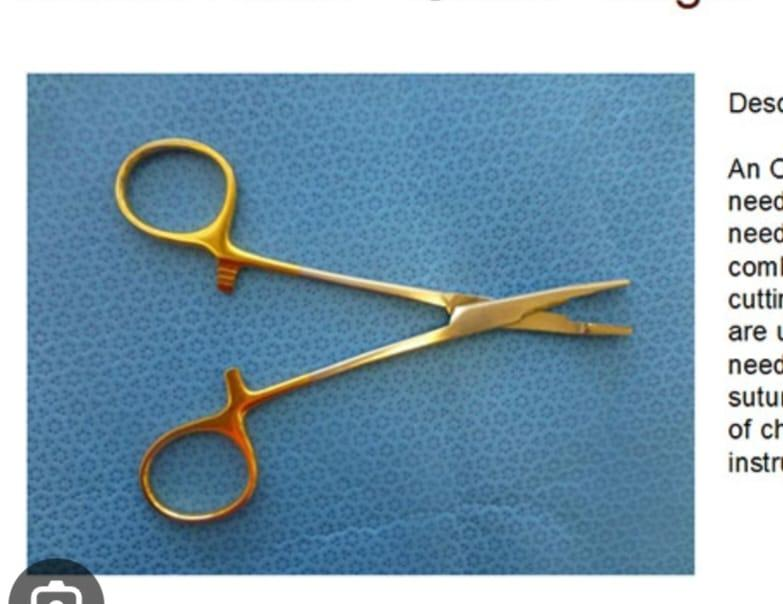Needle Holder: (105, 127, 639, 527)
